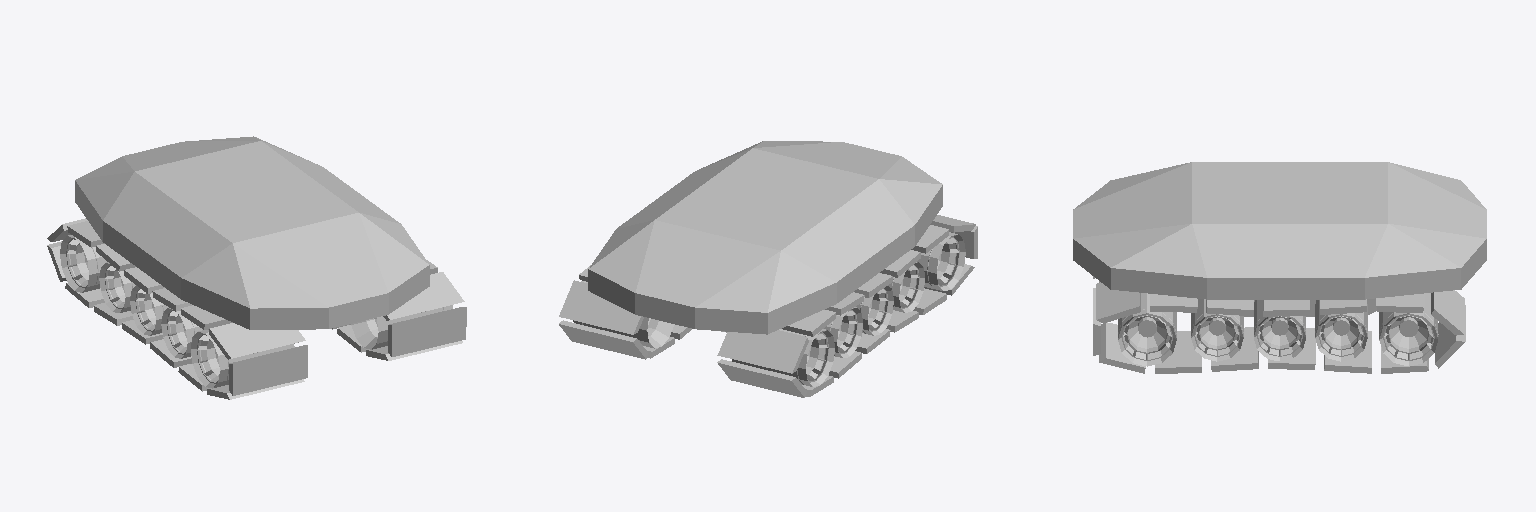
Rendered from tank_bottm_no_texture.obj.
3 renders of one model, left to right at view 1: azimuth 30°, elevation 25°; view 2: azimuth 150°, elevation 25°; view 3: azimuth 270°, elevation 25°, orthographic.
Parts seen in each view (by area): view 1: Cube.003_Cube, Cube.002, Cylinder.001_Cylinder.002, Cube.000_Cube.001, Cylinder.010_Cylinder.011; view 2: Cube.003_Cube, Cube.002, Cylinder.001_Cylinder.002, Cube.000_Cube.001, Cylinder.010_Cylinder.011; view 3: Cube.003_Cube, Cube.000_Cube.001, Cylinder.010_Cylinder.011.
Part boxes in pixels (bbox=[...]): Cube.003_Cube: bbox=[75, 136, 429, 329]; Cube.002: bbox=[47, 218, 307, 399]; Cylinder.001_Cylinder.002: bbox=[60, 235, 294, 388]; Cube.000_Cube.001: bbox=[332, 260, 466, 360]; Cylinder.010_Cylinder.011: bbox=[351, 305, 452, 349]; Cube.003_Cube: bbox=[588, 141, 942, 334]; Cube.002: bbox=[717, 215, 977, 397]; Cylinder.001_Cylinder.002: bbox=[732, 232, 965, 386]; Cube.000_Cube.001: bbox=[559, 265, 691, 359]; Cylinder.010_Cylinder.011: bbox=[573, 281, 674, 348]; Cube.003_Cube: bbox=[1073, 162, 1486, 316]; Cube.000_Cube.001: bbox=[1093, 282, 1465, 373]; Cylinder.010_Cylinder.011: bbox=[1118, 293, 1438, 366].
Bounding box in the file's own units: 4.2 × 2.1 × 6.44.